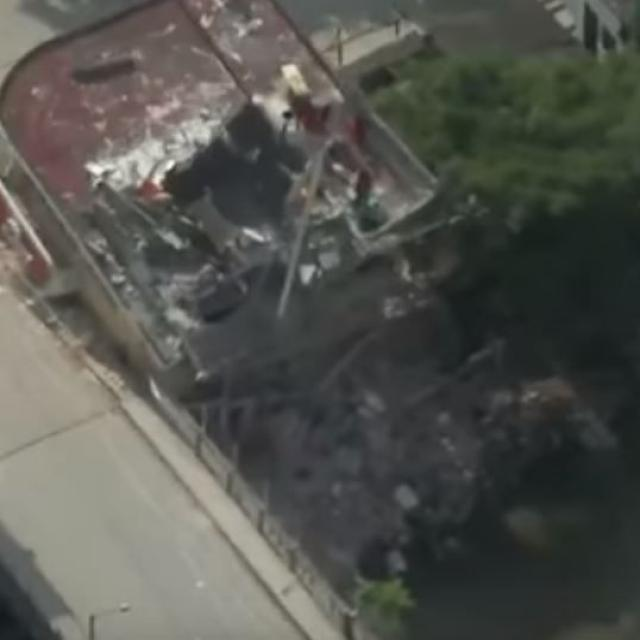collapsed_building: (2, 4, 436, 394)
